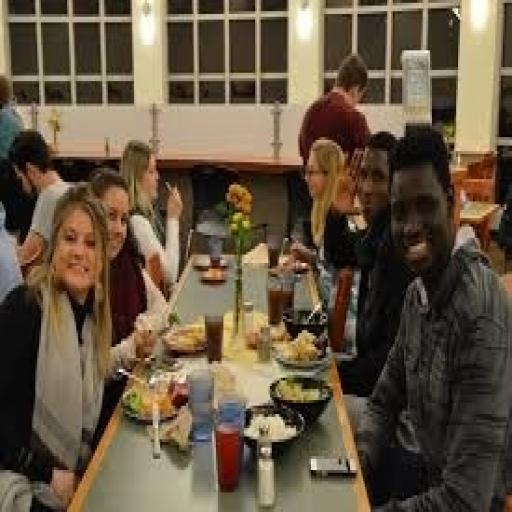eating: (352, 123, 510, 509)
